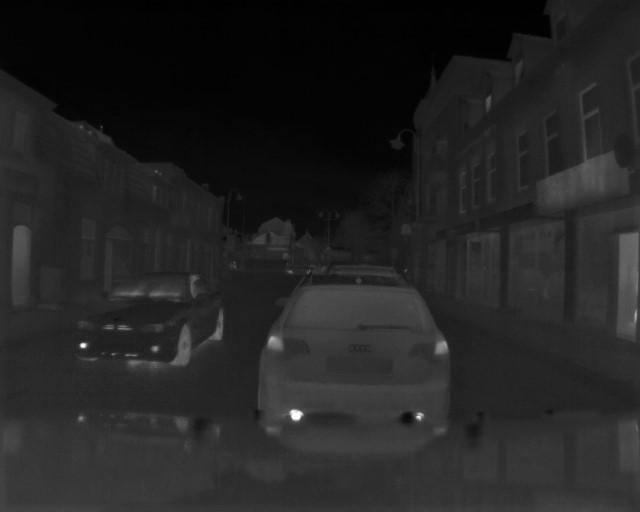car: (257, 272, 465, 441), (72, 270, 226, 367)
